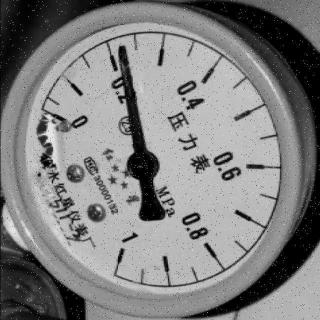gauge: (0, 0, 320, 320), (42, 106, 86, 145), (123, 152, 162, 180), (100, 245, 132, 279), (115, 42, 131, 59)
